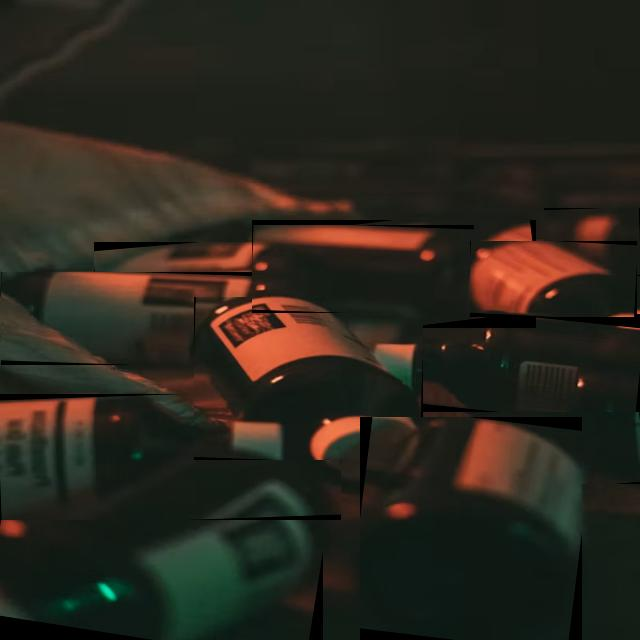Bottle: (0, 445, 322, 639), (359, 417, 581, 639), (375, 316, 639, 483), (194, 297, 421, 460), (0, 394, 285, 519), (251, 220, 535, 327), (1, 273, 296, 364), (374, 315, 639, 412), (251, 225, 456, 312), (470, 242, 635, 317), (571, 360, 639, 484), (93, 242, 295, 278), (544, 208, 639, 276)
